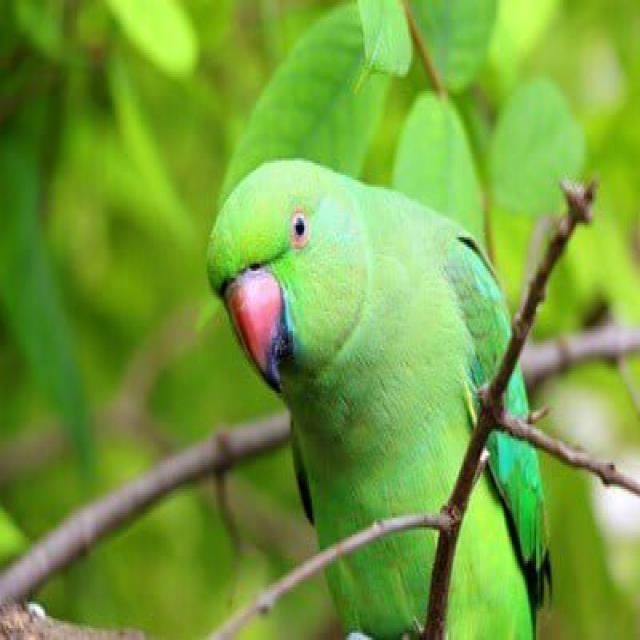Parrot: (203, 155, 535, 640)
